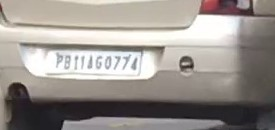PB11AG0774: (45, 50, 142, 76)
